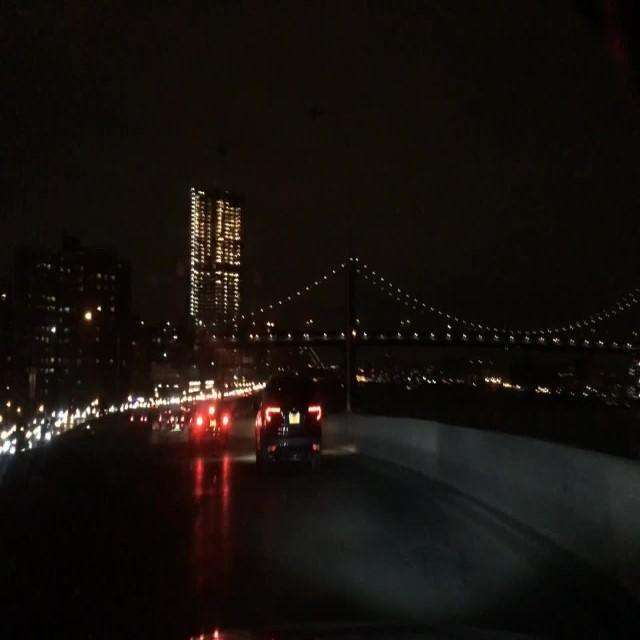normal: (229, 352, 345, 479)
